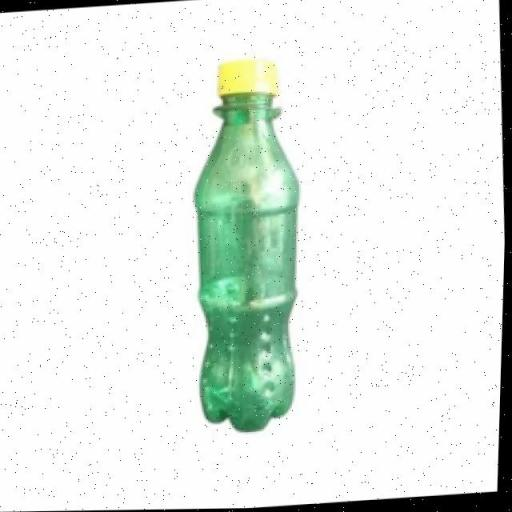plastic: (180, 54, 316, 436)
